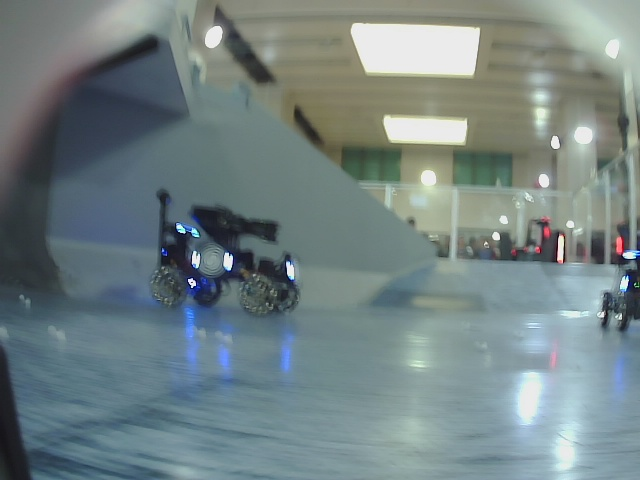lamp: (222, 251, 232, 272), (192, 249, 201, 270)
pair: (190, 250, 234, 271)
